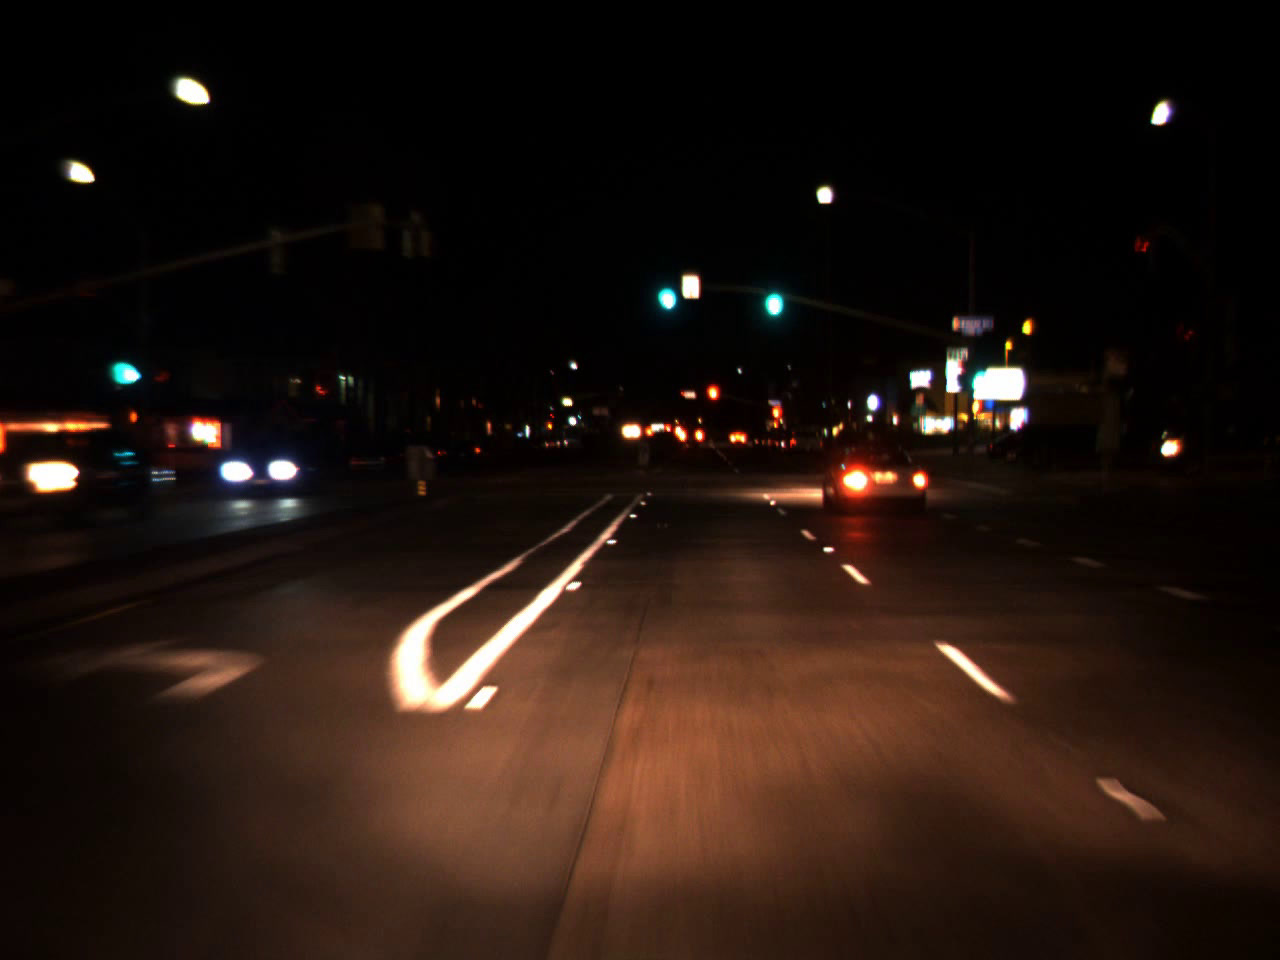go: (103, 335, 140, 392), (757, 262, 787, 325), (650, 260, 680, 317), (966, 350, 989, 395)
stop: (705, 382, 721, 419), (771, 402, 783, 434)
